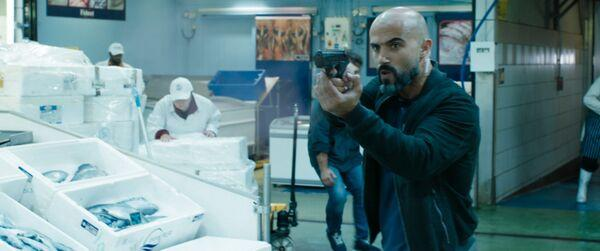Gun: (313, 47, 363, 81)
